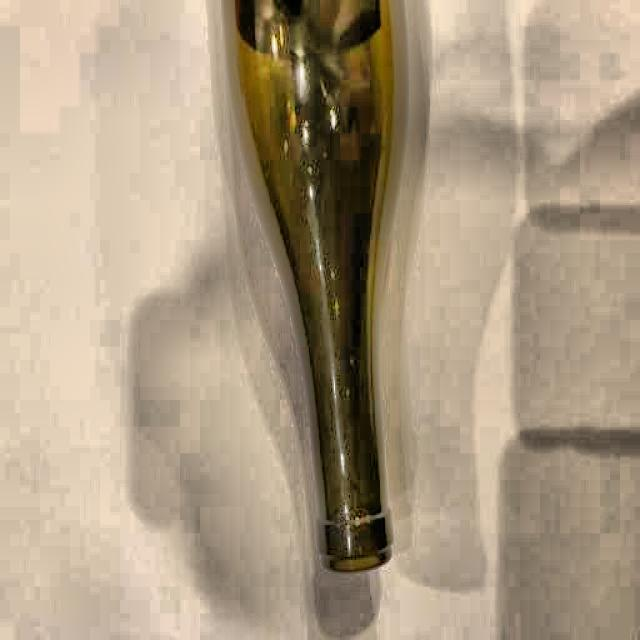glass: (228, 0, 406, 575)
